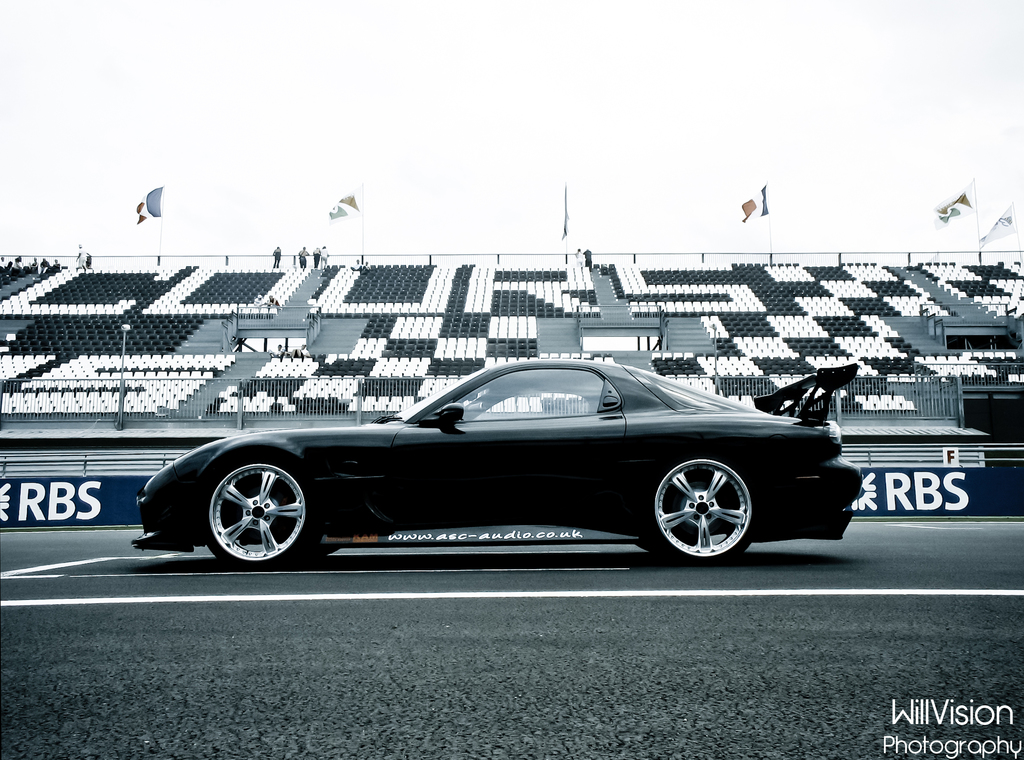Car: (128, 358, 860, 571)
